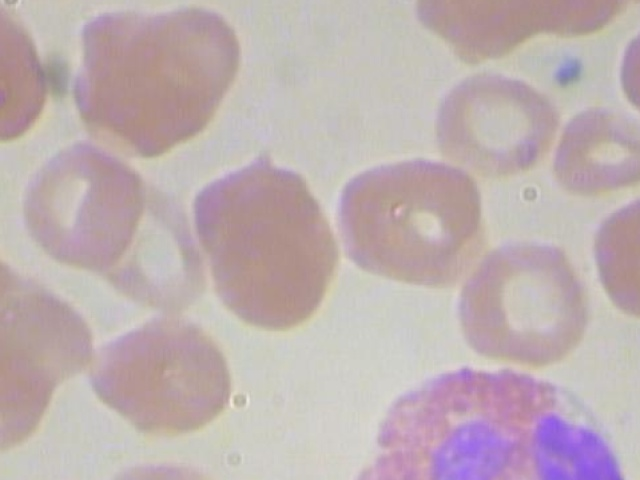Platelets: (545, 46, 591, 89)
RBC: (329, 146, 502, 292), (76, 306, 253, 445), (203, 180, 340, 338), (443, 229, 592, 372), (11, 136, 147, 275), (427, 53, 560, 188), (548, 99, 640, 201), (586, 189, 640, 324), (83, 450, 234, 480), (610, 13, 640, 152)
WBC: (338, 356, 640, 480)
